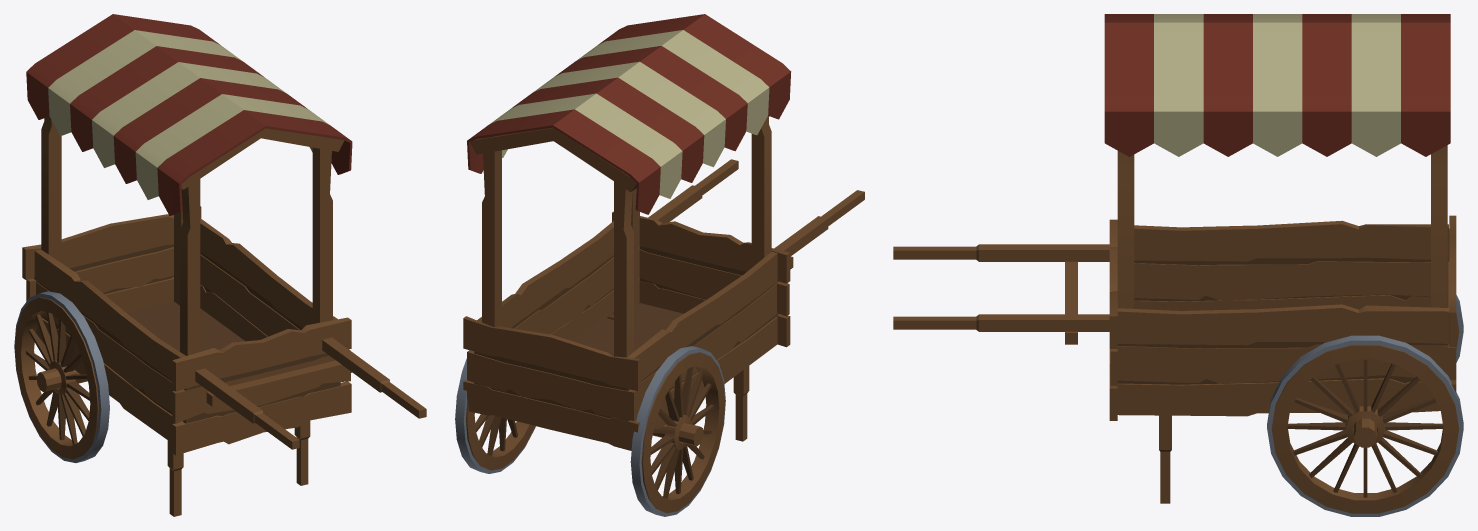
The model's file is Cart.glb.
3 renders of one model, left to right at view 1: azimuth 30°, elevation 25°; view 2: azimuth 150°, elevation 25°; view 3: azimuth 270°, elevation 25°, orthographic. The views are drawn at different scales.
Parts seen in each view (by area): view 1: Cart; view 2: Cart; view 3: Cart.
Boxes of the visible parts, x1,y1,x2,y2 form: Cart: (14, 14, 426, 516); Cart: (455, 14, 864, 516); Cart: (893, 14, 1463, 516).
Bounding box in the file's own units: 0.462 × 0.7961 × 0.9274.
